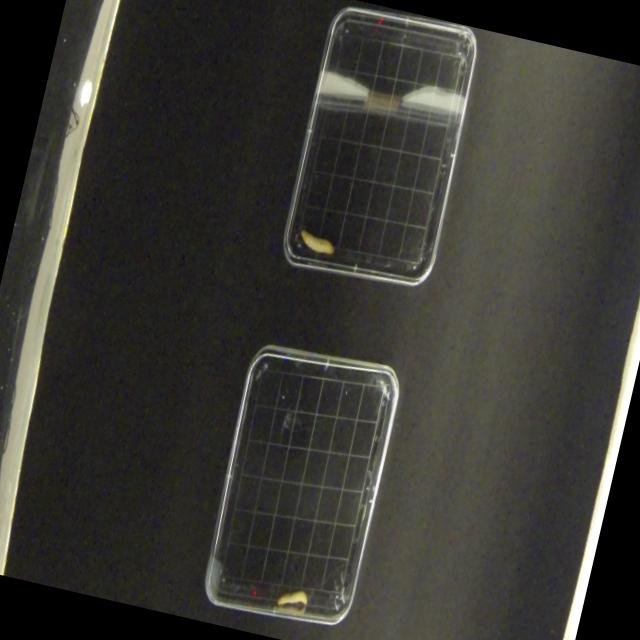larva: (295, 225, 338, 258), (276, 582, 310, 613)
